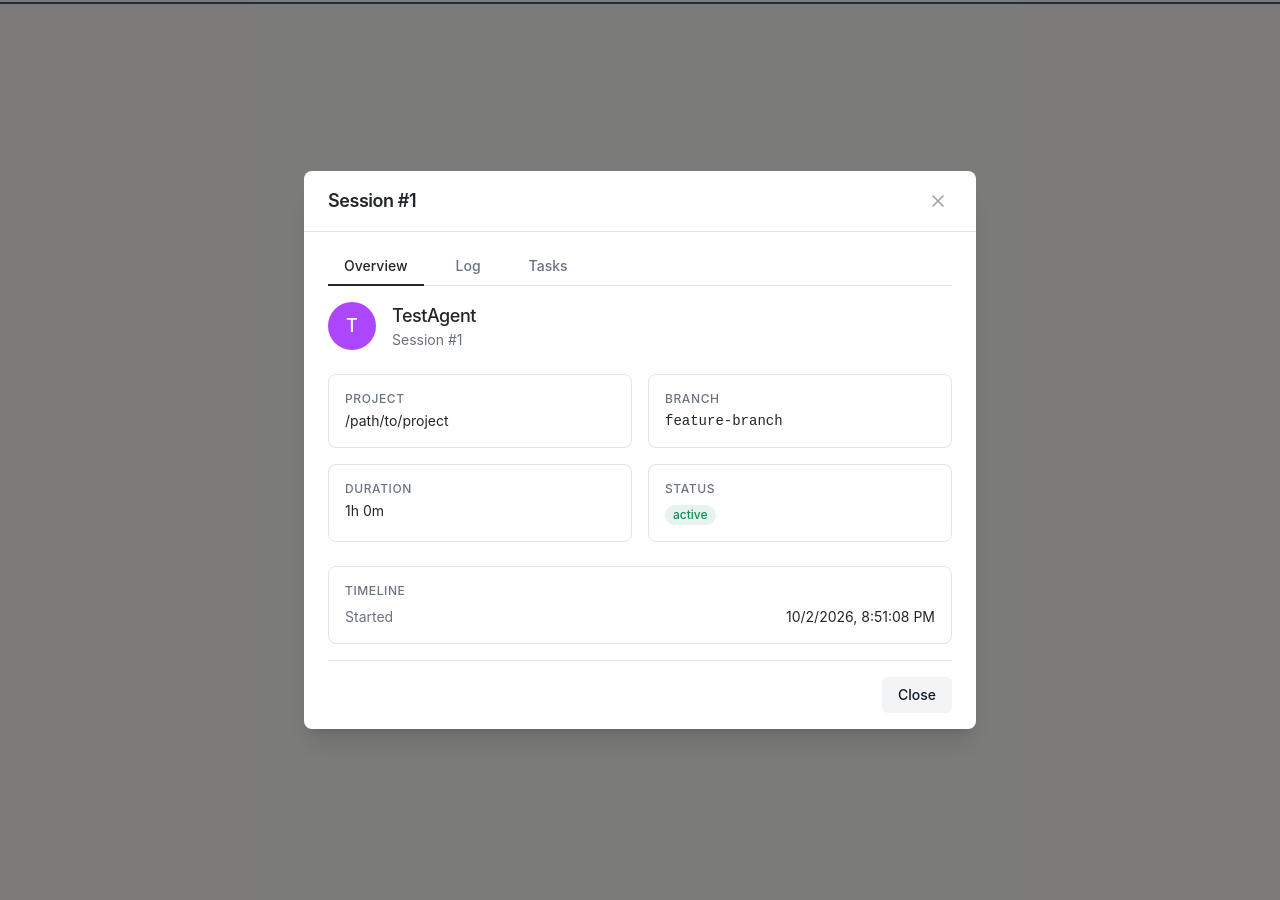
Scenario: SessionDetail › shows empty state for tasks tab
Click the button "Tasks": (548, 267) [513,248,584,286]
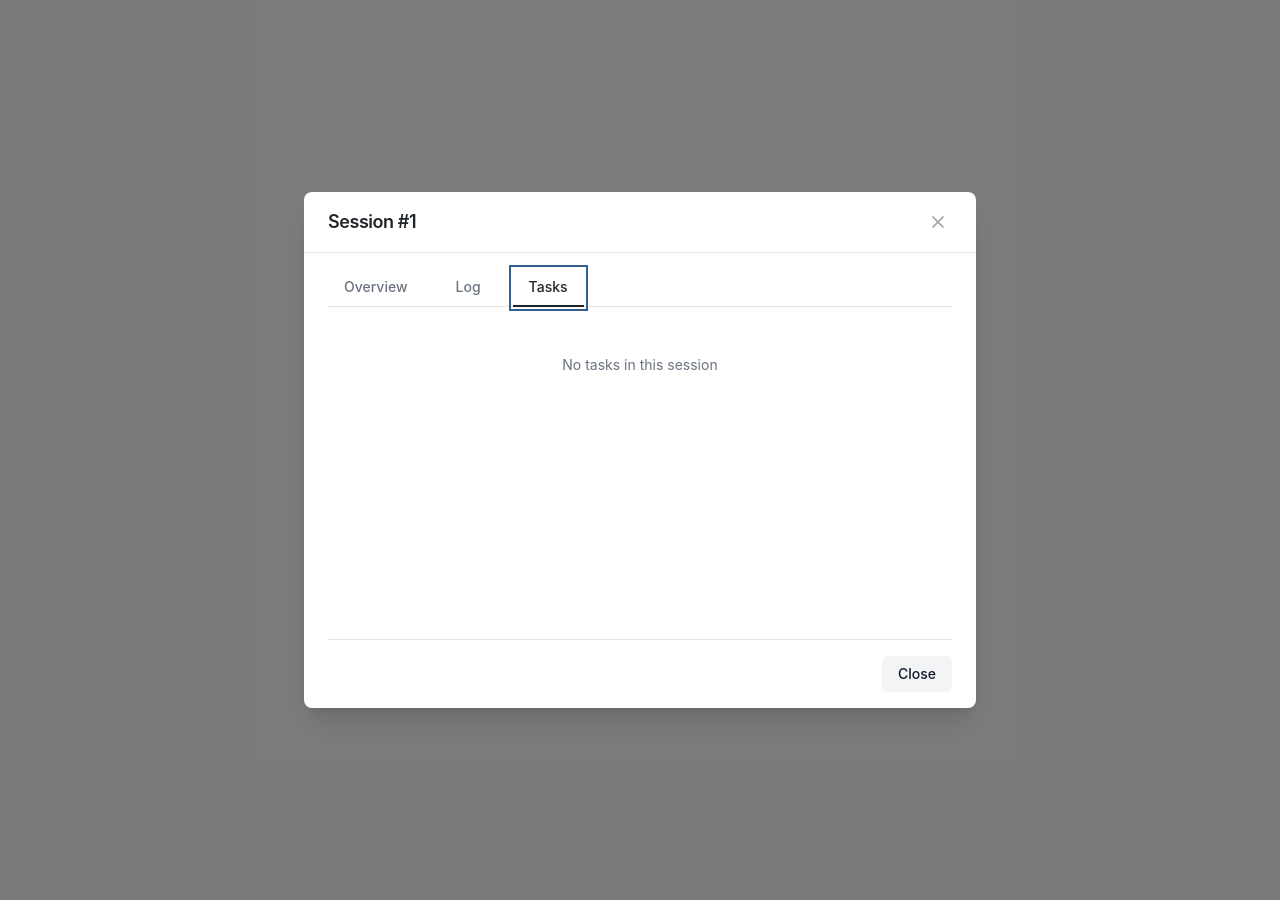
Expected: the text "No tasks in this session" is shown, [562,356,718,373]
